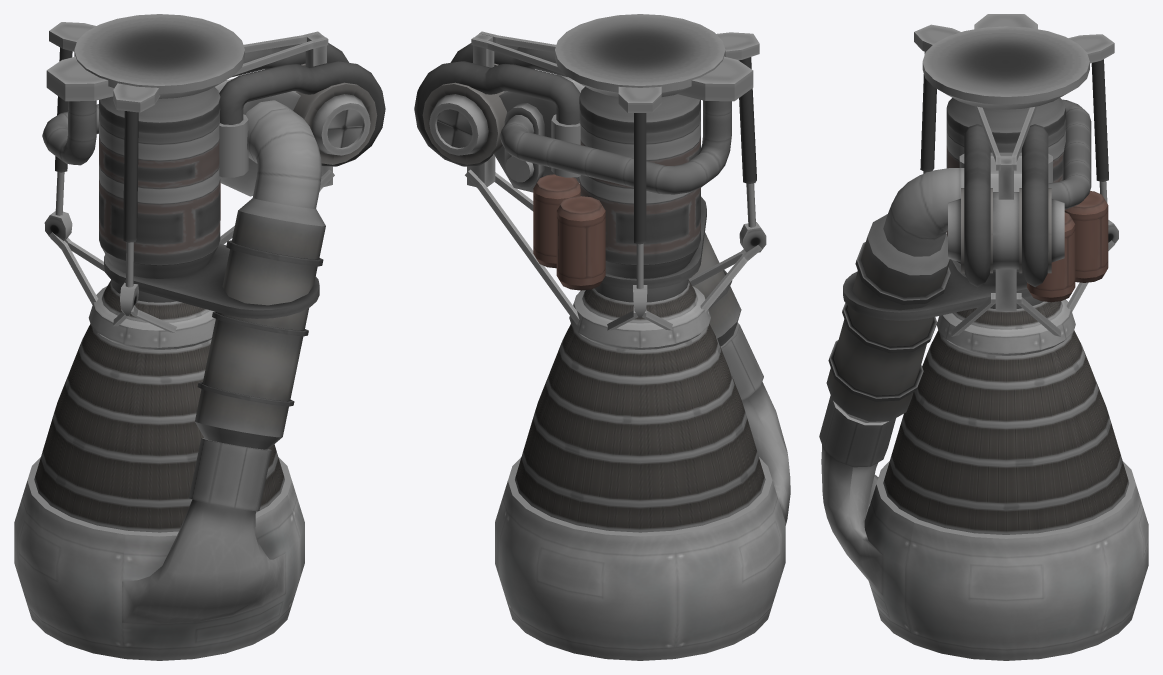
3 views of the same model, side by side, from view 1: azimuth 30°, elevation 25°; view 2: azimuth 150°, elevation 25°; view 3: azimuth 270°, elevation 25° (orthographic).
Parts seen in each view (by area): view 1: H7_Gimbal_null51, H7_pCylinder59, UpperGimbal1; view 2: H7_Gimbal_null51, H7_pCylinder59, UpperGimbal2, UpperGimbal1; view 3: H7_Gimbal_null51, H7_pCylinder59, UpperGimbal2, UpperGimbal1.
Part boxes in pixels (<box>): H7_Gimbal_null51: <box>14,31,385,660</box>; H7_pCylinder59: <box>46,14,244,112</box>; UpperGimbal1: <box>123,111,138,242</box>; H7_Gimbal_null51: <box>414,31,790,660</box>; H7_pCylinder59: <box>555,14,759,112</box>; UpperGimbal2: <box>634,113,646,244</box>; UpperGimbal1: <box>739,57,756,184</box>; H7_Gimbal_null51: <box>819,98,1148,660</box>; H7_pCylinder59: <box>914,14,1114,109</box>; UpperGimbal2: <box>1091,59,1108,181</box>; UpperGimbal1: <box>920,52,936,172</box>.
Size of the model in its own units: 0.8576 by 1.36 by 0.7442.
